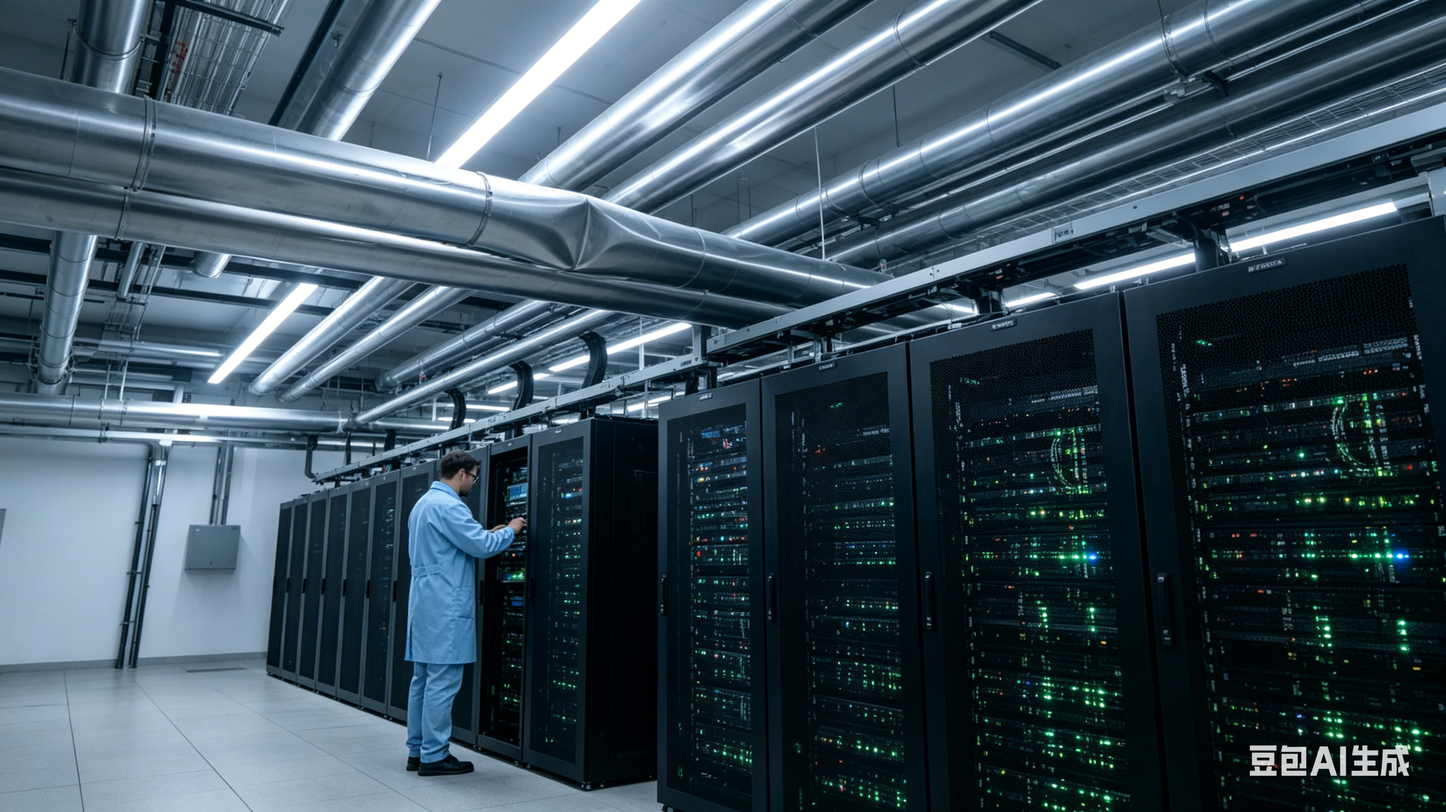Leakage: (549, 191, 620, 289)
